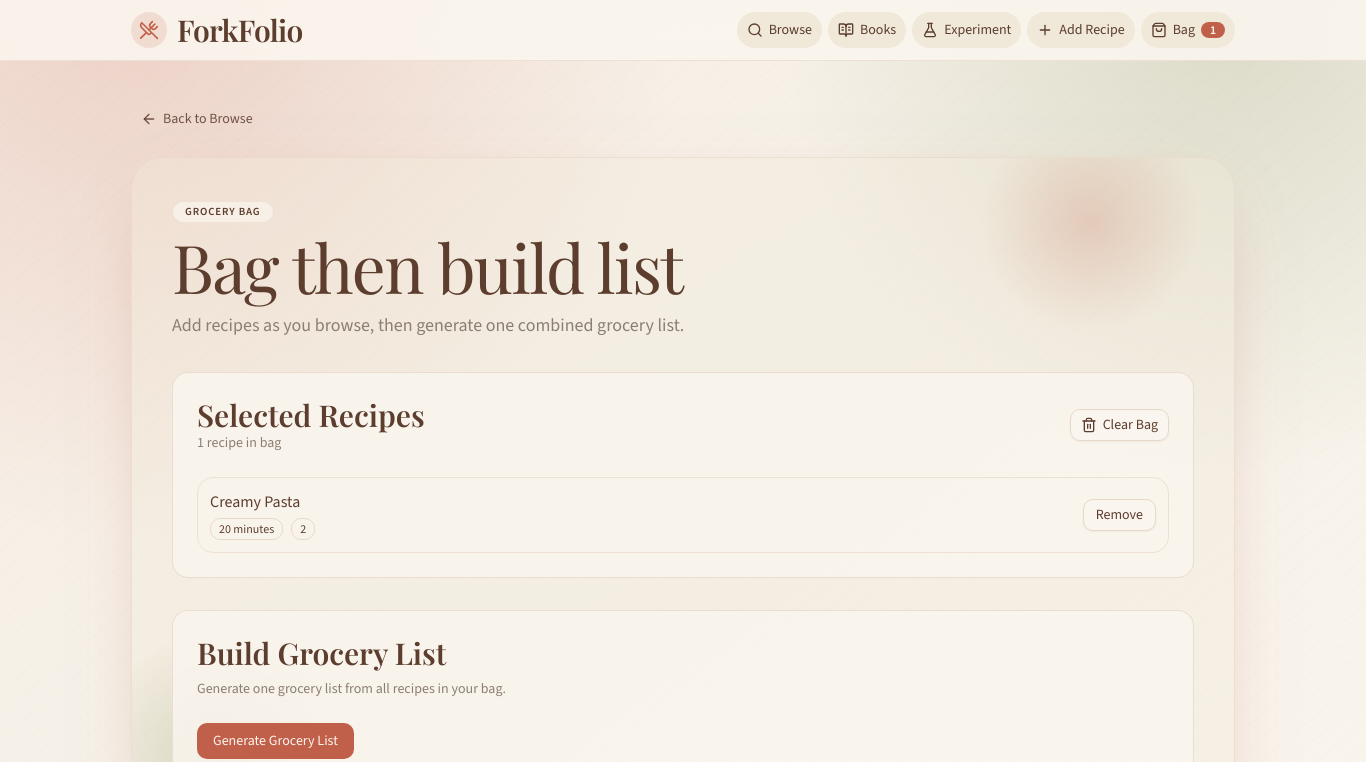
Test: /bag page › ignores stale generation response after bag is cleared mid-request
Check: the text "Creamy Pasta" is shown, box [210,490,315,514]
Click the button "Generate Grocery List". click: (275, 741)
box: [197,723,354,759]
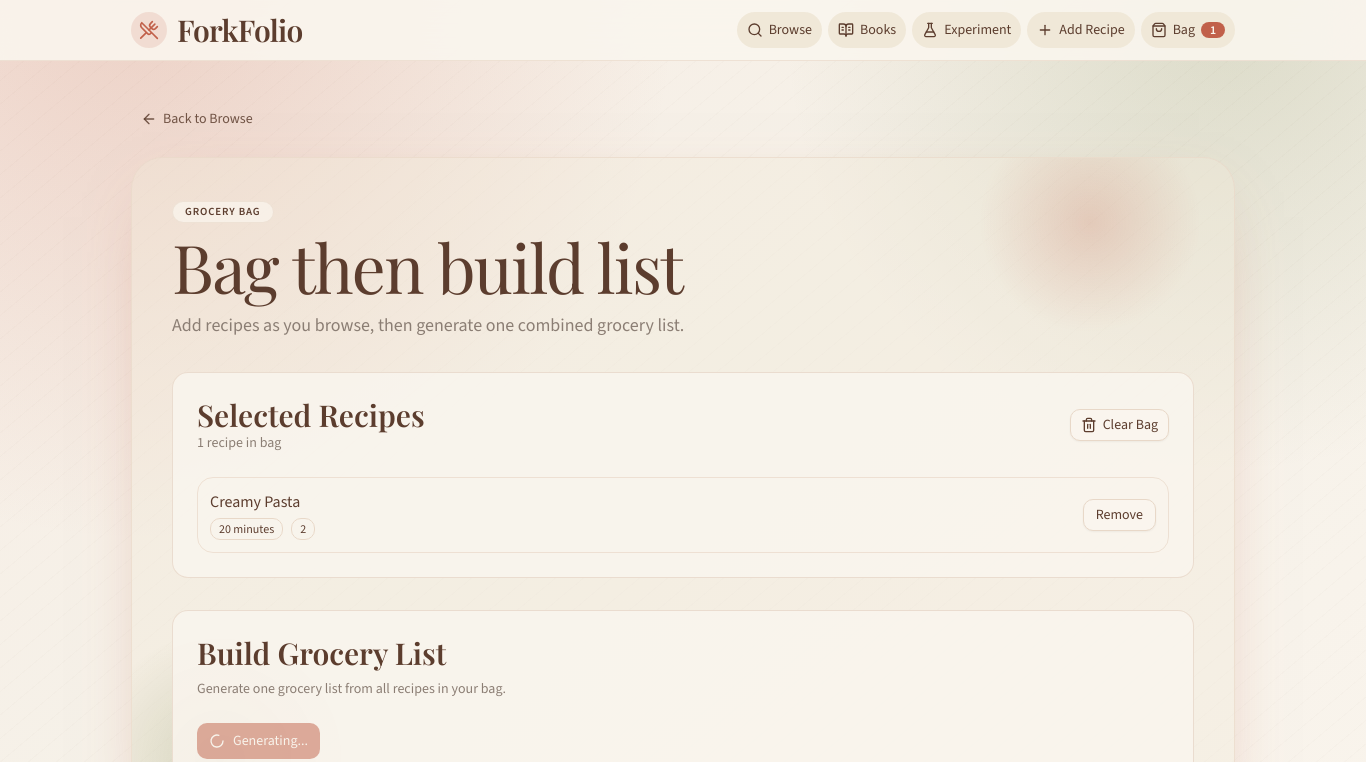
Click the button "Clear Bag". click: (1119, 425)
box: [1070,409,1169,441]
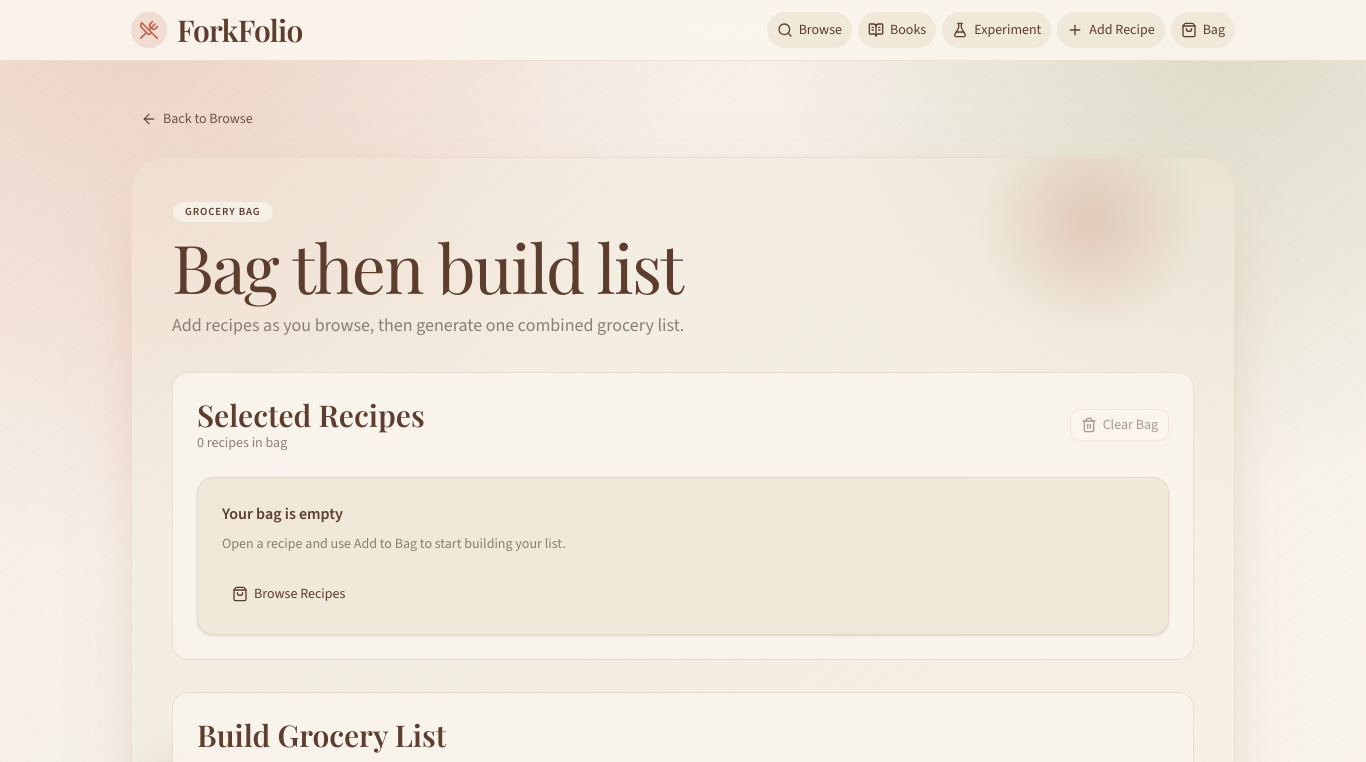
Check: the text "Your bag is empty" is shown, box [222,503,343,524]
